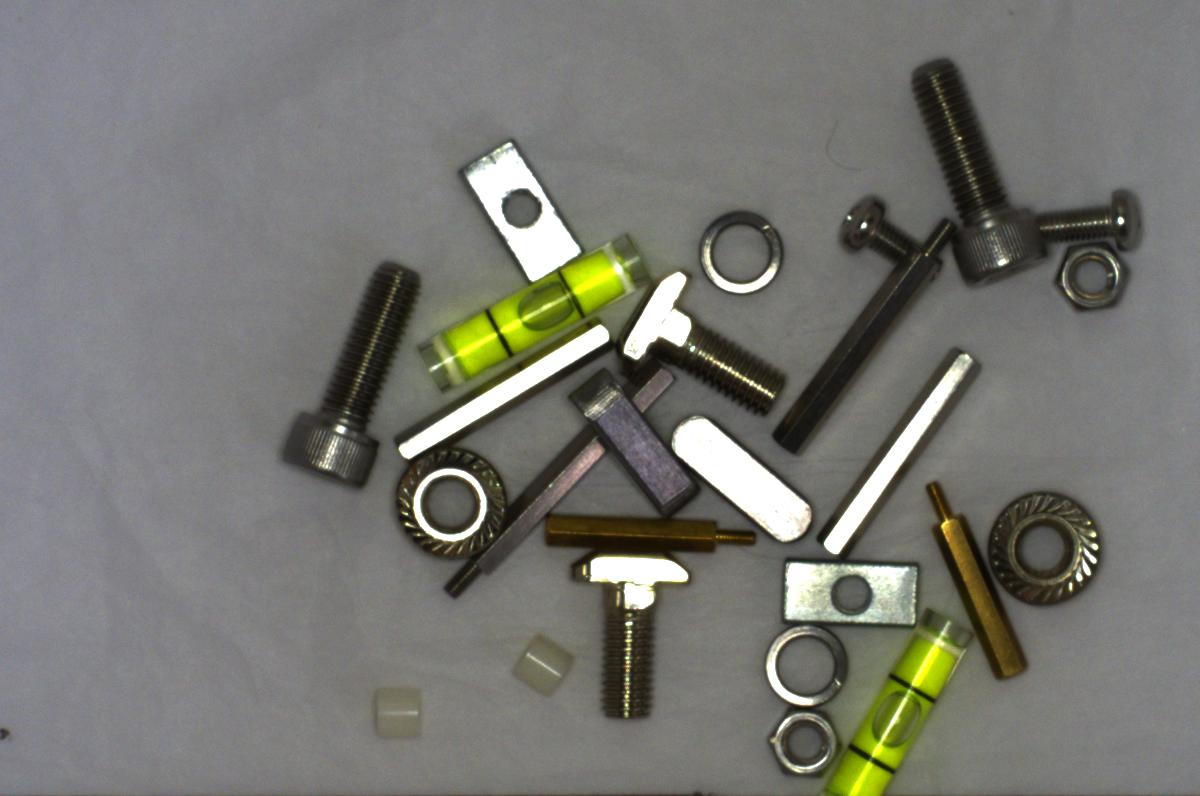Double hexagonal column: (807, 336, 993, 563), (389, 319, 606, 460)
Flange nut: (984, 480, 1115, 623), (385, 444, 517, 567)
Hexagon nut: (764, 700, 846, 780), (1053, 239, 1129, 321)
Hexagon pillar: (925, 473, 1030, 692), (533, 501, 769, 562)
Hexagon screw: (903, 49, 1055, 294), (275, 256, 424, 495)
Hexagonal steel column: (447, 372, 676, 595), (767, 210, 962, 458)
Horizontal bubble: (411, 235, 648, 394), (835, 609, 976, 795)
Keybar: (671, 405, 817, 553)
Plastic cushion pillar: (508, 632, 584, 704), (364, 672, 433, 742)
Rectangular nut: (464, 136, 585, 280), (776, 554, 921, 628)
Round head screw: (1023, 172, 1152, 254), (833, 190, 920, 265)
Spring washer: (687, 204, 794, 301), (755, 618, 857, 708)
T-shaped screw: (608, 274, 798, 419), (562, 540, 694, 728)
